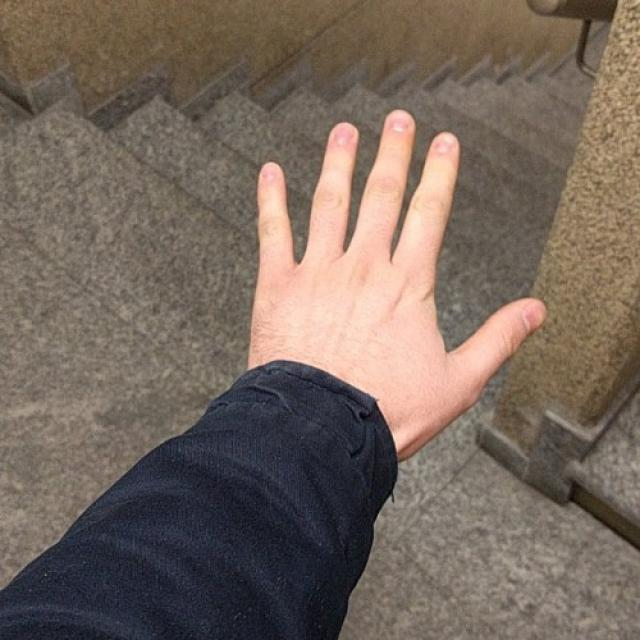paper: (260, 103, 550, 444)
